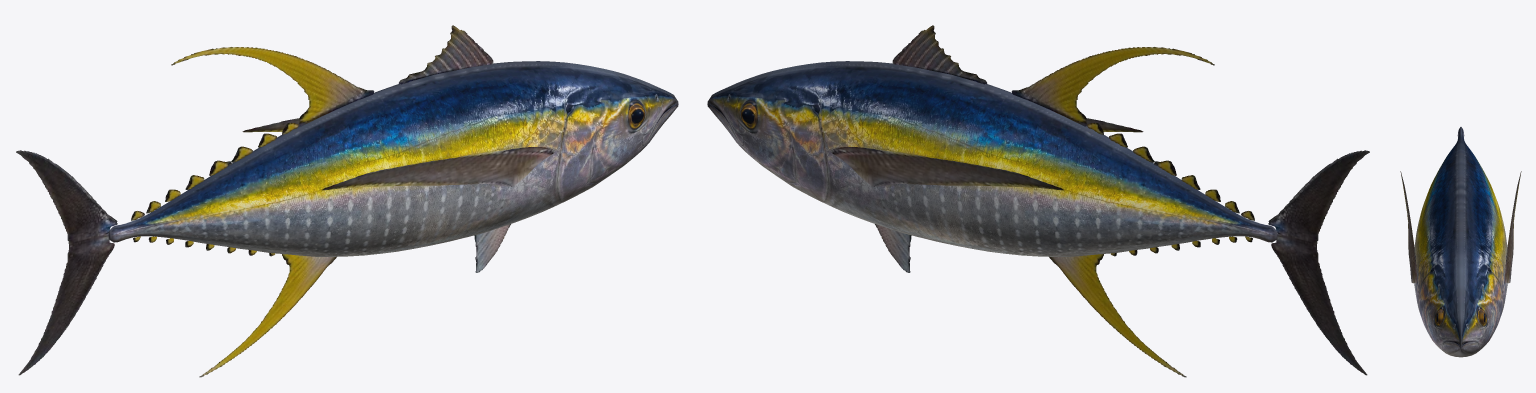
Rendered from kihada.glb.
3 views of the same model, side by side, from view 1: azimuth 30°, elevation 25°; view 2: azimuth 150°, elevation 25°; view 3: azimuth 270°, elevation 25° (orthographic). The views are drawn at different scales.
Size of the model in its own units: 1 by 0.4721 by 0.2093.
Materials: 1 (1 with a texture image).
